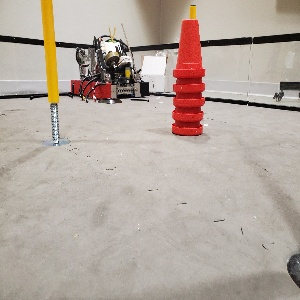Red_5: (170, 18, 206, 137)
